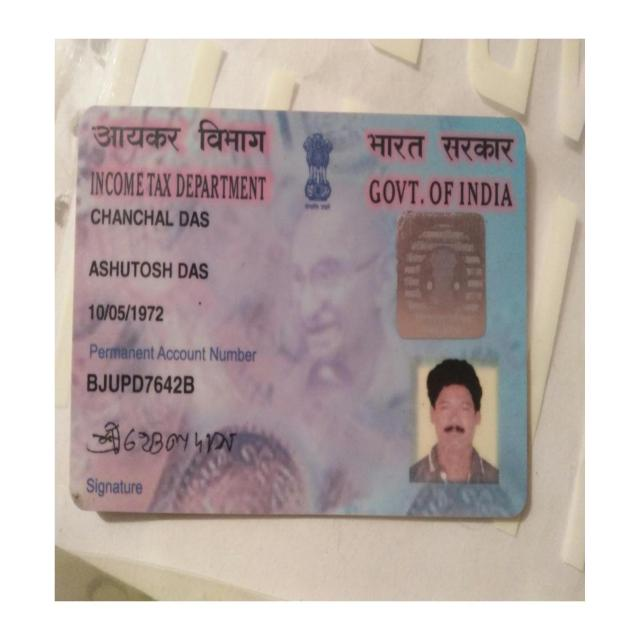pan_card: (75, 114, 523, 521)
